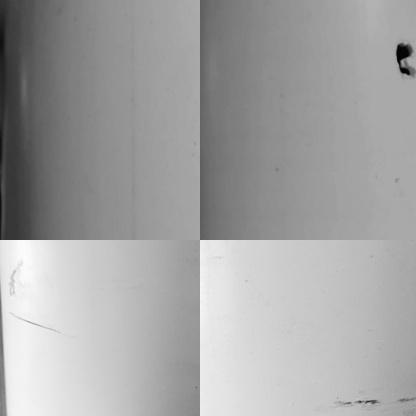kongdong: (392, 40, 413, 78)
sunshang: (7, 311, 78, 346), (5, 255, 27, 298)
